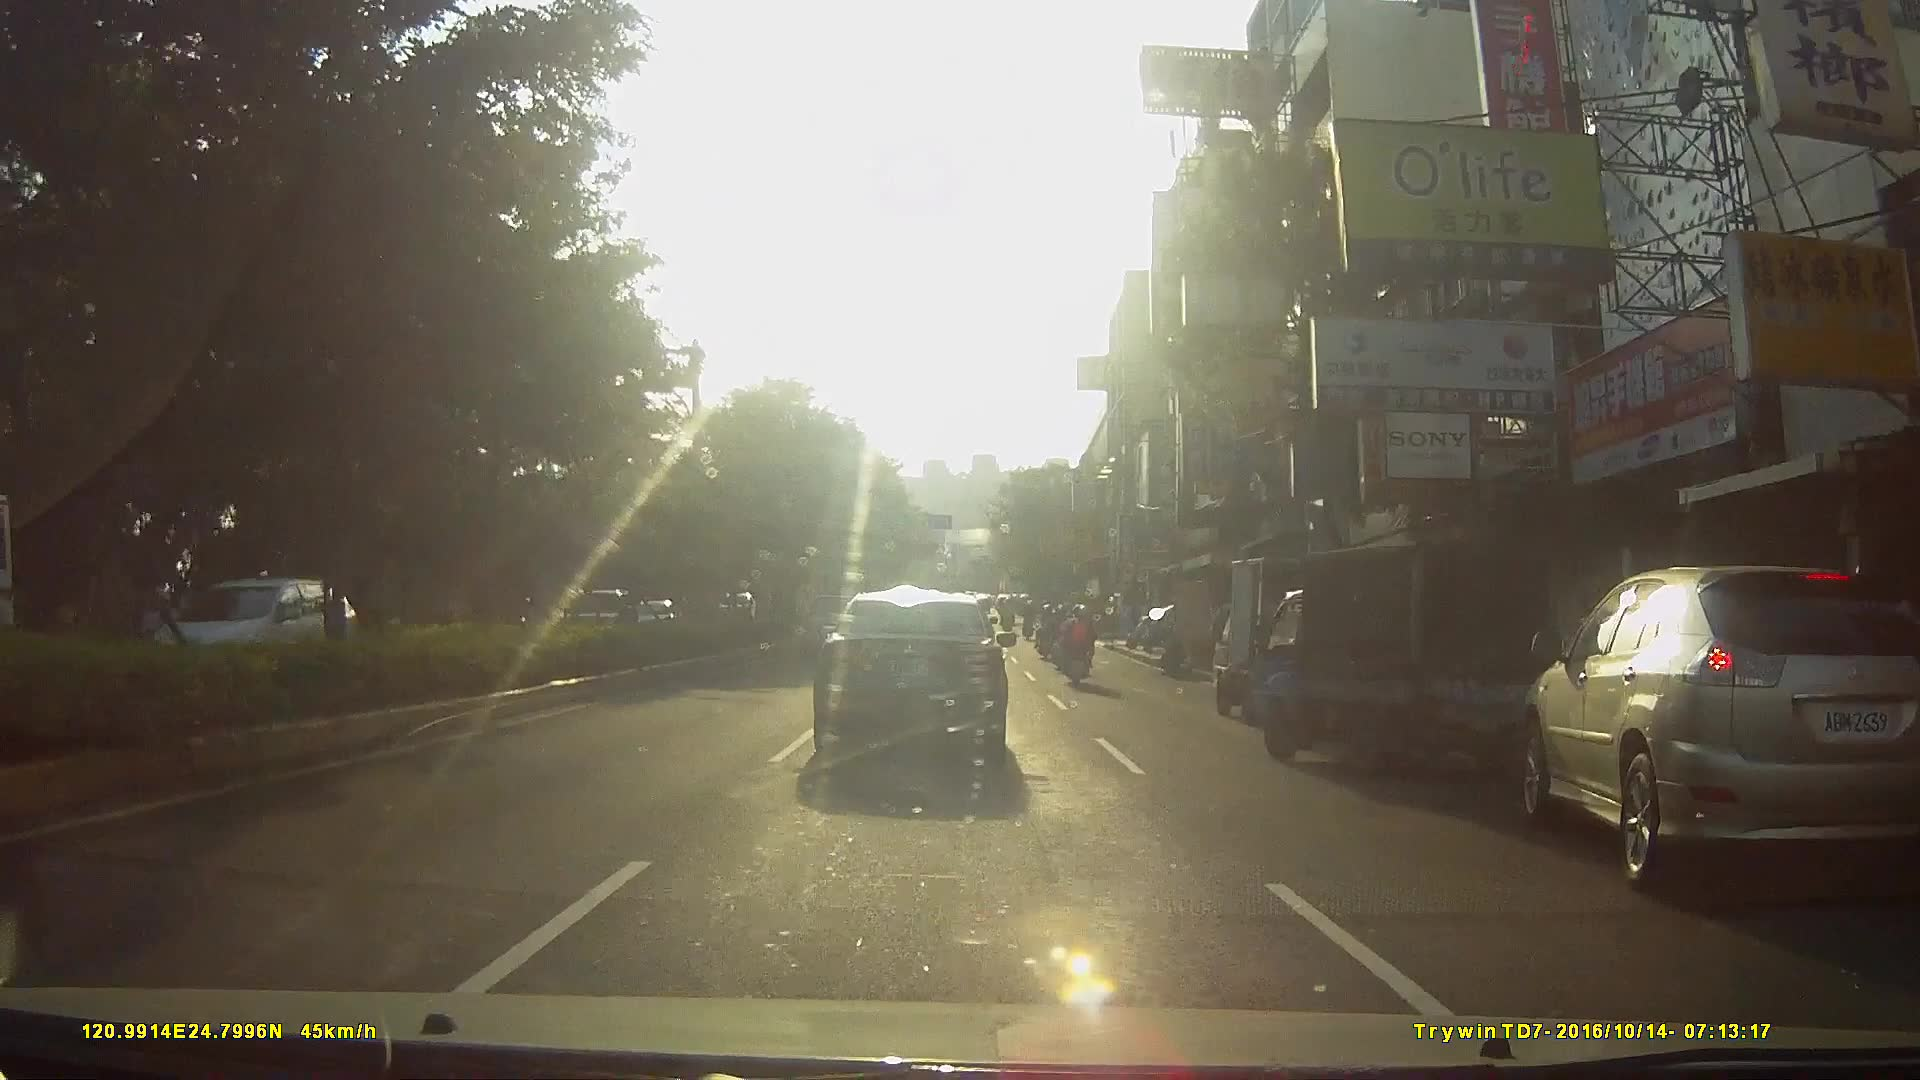rider: (1055, 607, 1098, 697), (1036, 607, 1058, 663)
vehicle: (1507, 555, 1920, 902), (1251, 532, 1596, 798), (811, 589, 1030, 780), (1200, 553, 1396, 727), (136, 574, 361, 685)
